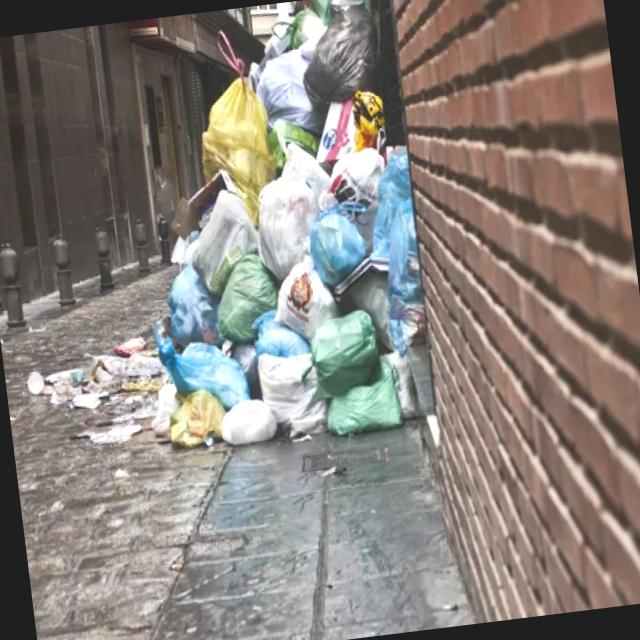garbage: (144, 0, 437, 455)
